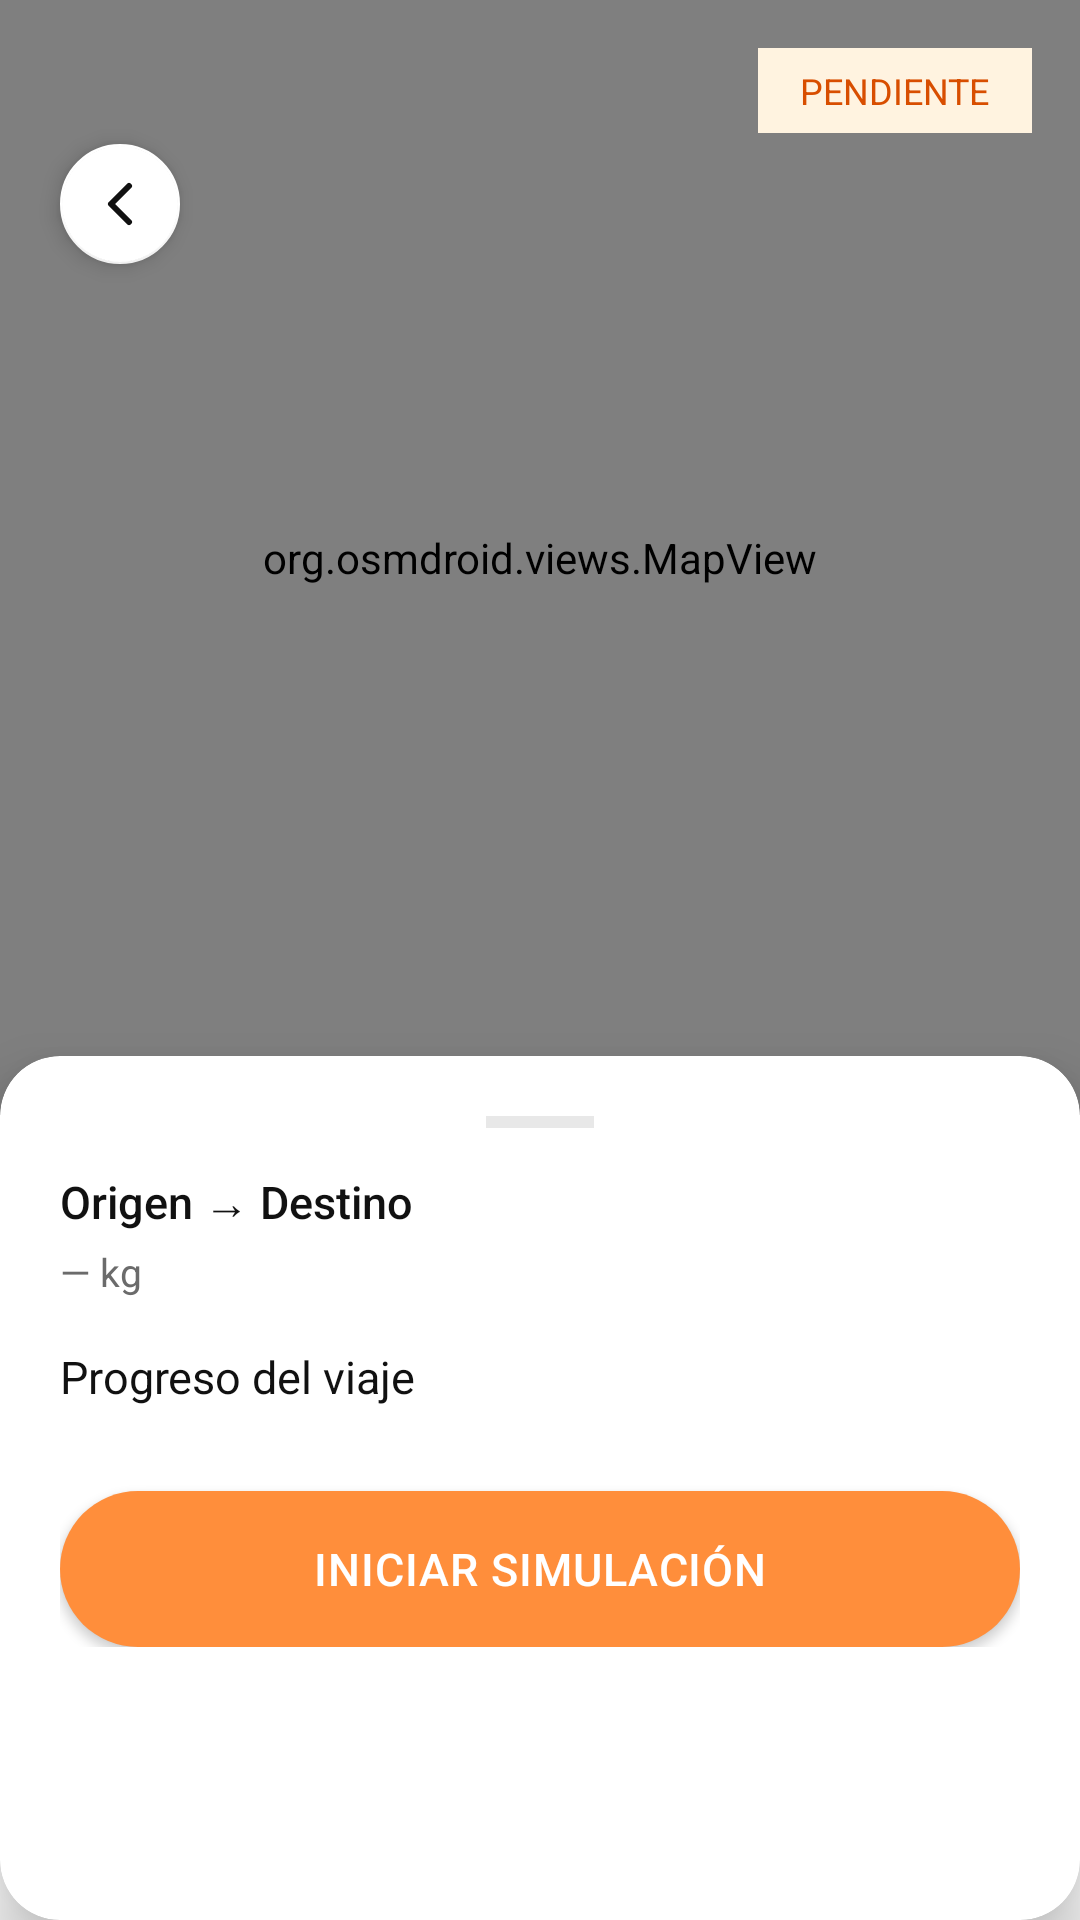

Named icons in this screenshot (1080w x 1920h) and their centers, point (x, y):
arrow back: point (120, 204)
